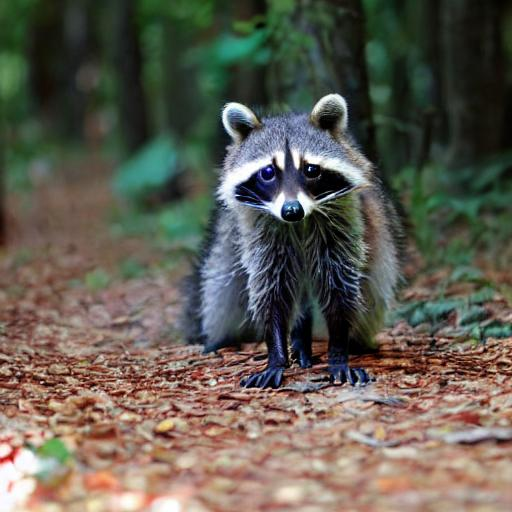raccoon: (172, 88, 422, 346)
